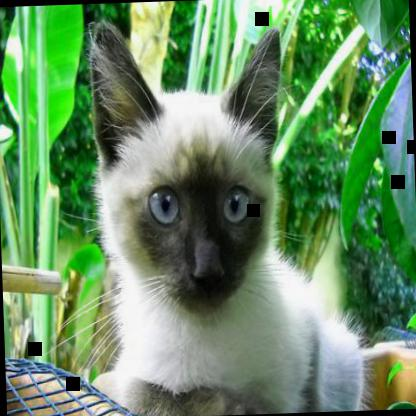cat: (79, 13, 369, 415)
